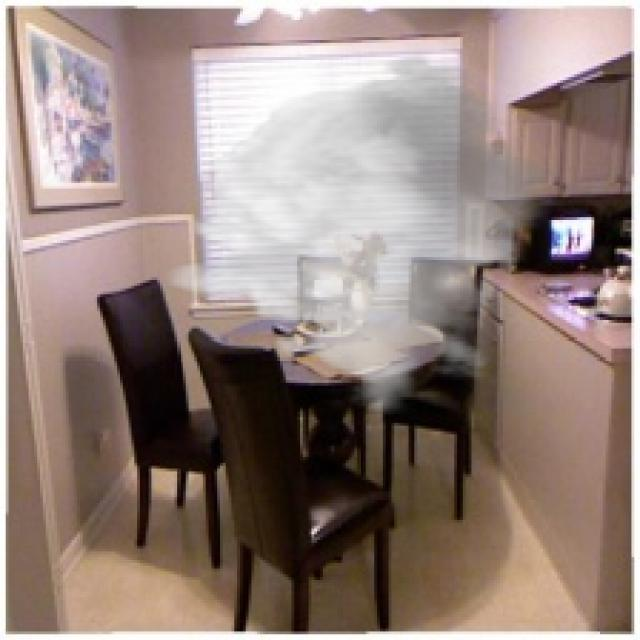Smoke: (163, 52, 566, 414)
